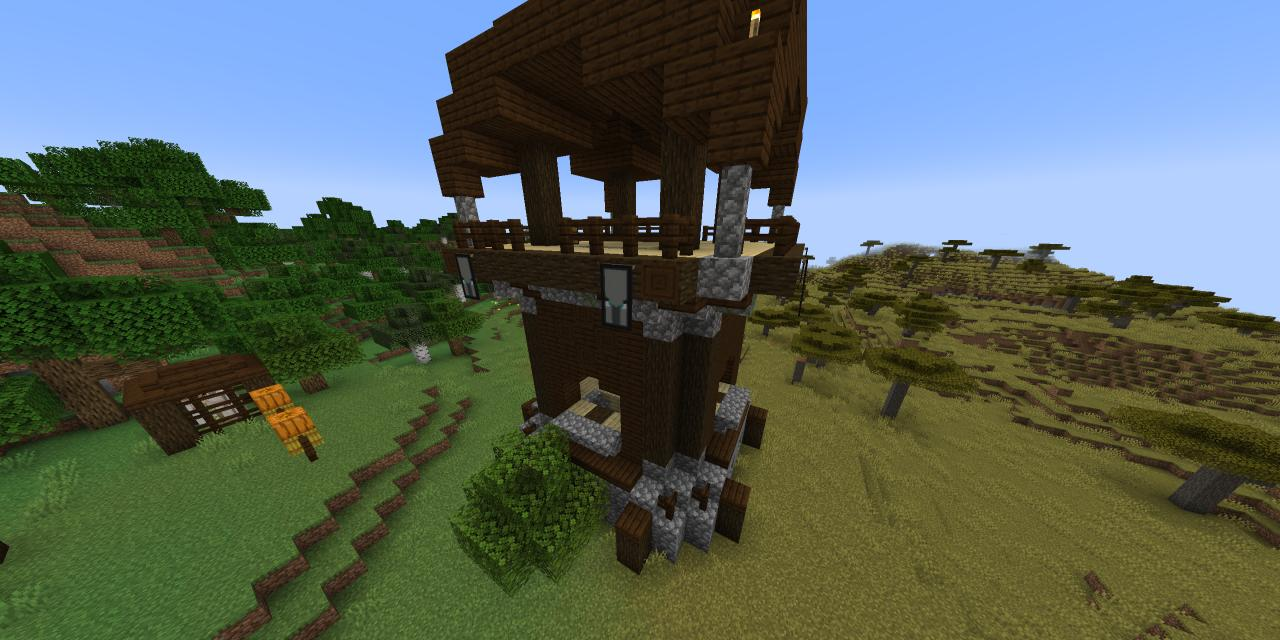pillager outpost: (407, 0, 835, 576)
